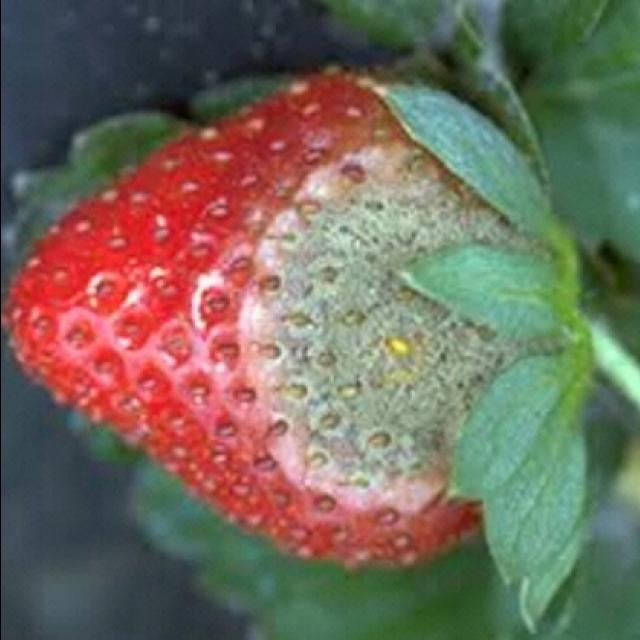Gray Mold: (229, 126, 572, 525)
